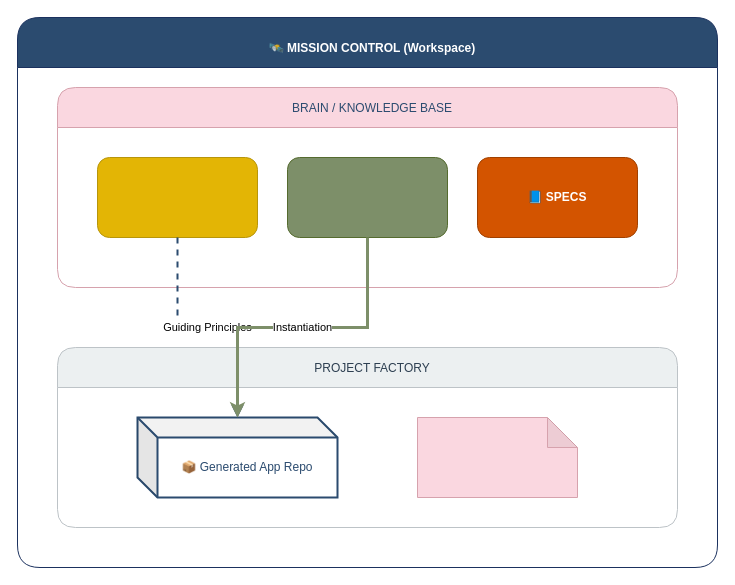
This 735x585 diagram has some shape labels left out. Each missing label, with the centre of its shape:
⚙️ WORKFLOWS: point 367,197
🎨 Branding Assets: point 497,457
📜 RULES: point 177,197
